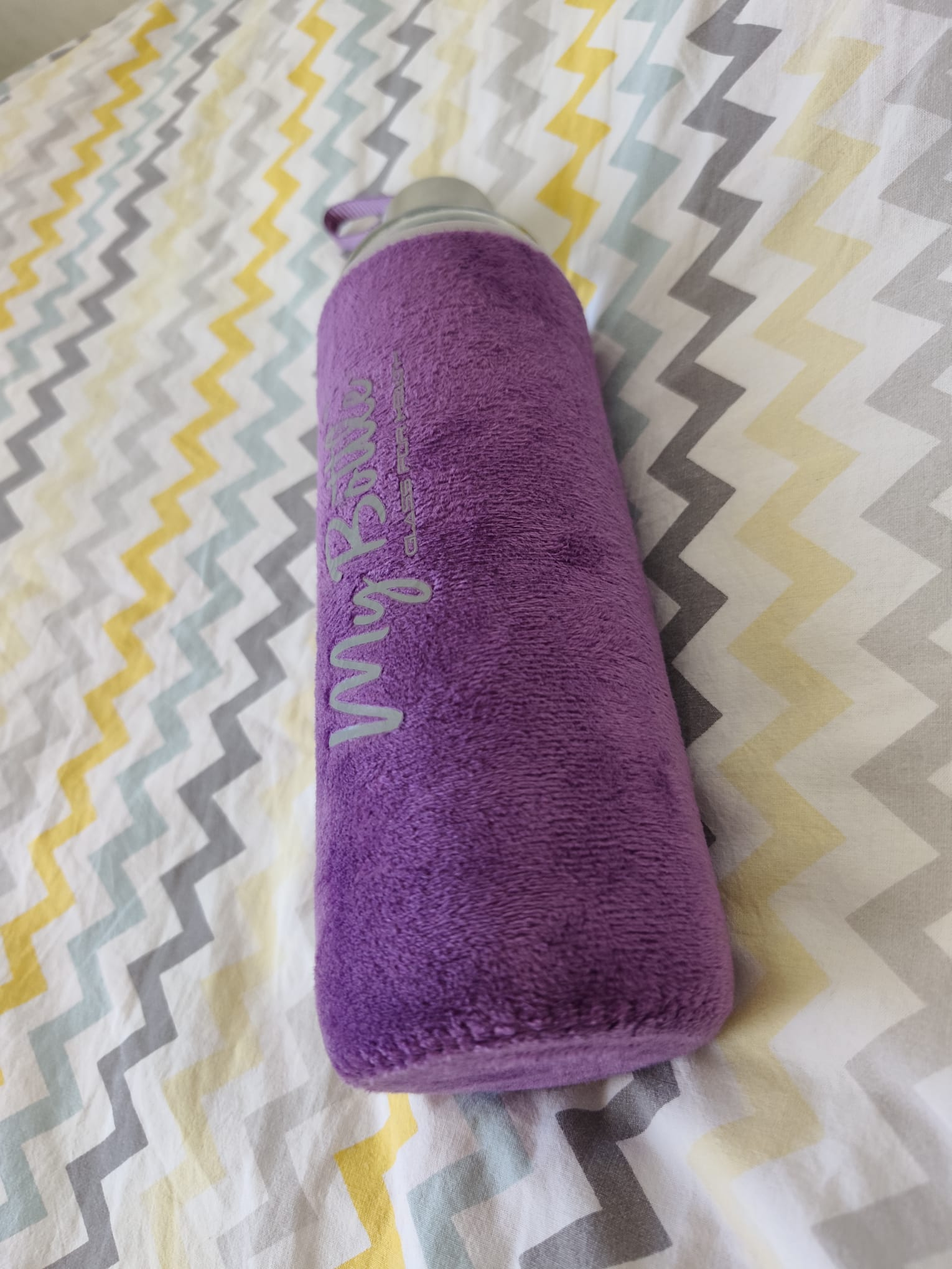su_sisesi: (289, 153, 752, 1103), (292, 159, 747, 1111)
